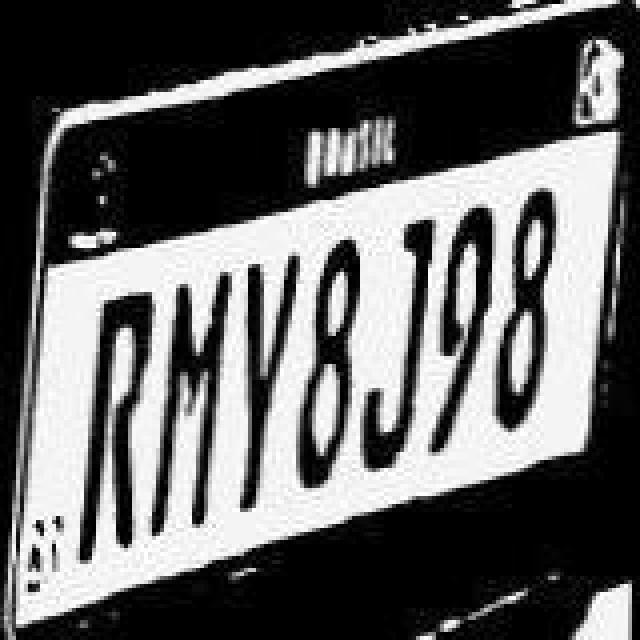8: (294, 234, 370, 494), (494, 186, 562, 438)
9: (426, 204, 502, 460)
J: (362, 210, 446, 478)
M: (150, 262, 234, 538)
R: (76, 284, 156, 564)
Y: (232, 248, 304, 512)
